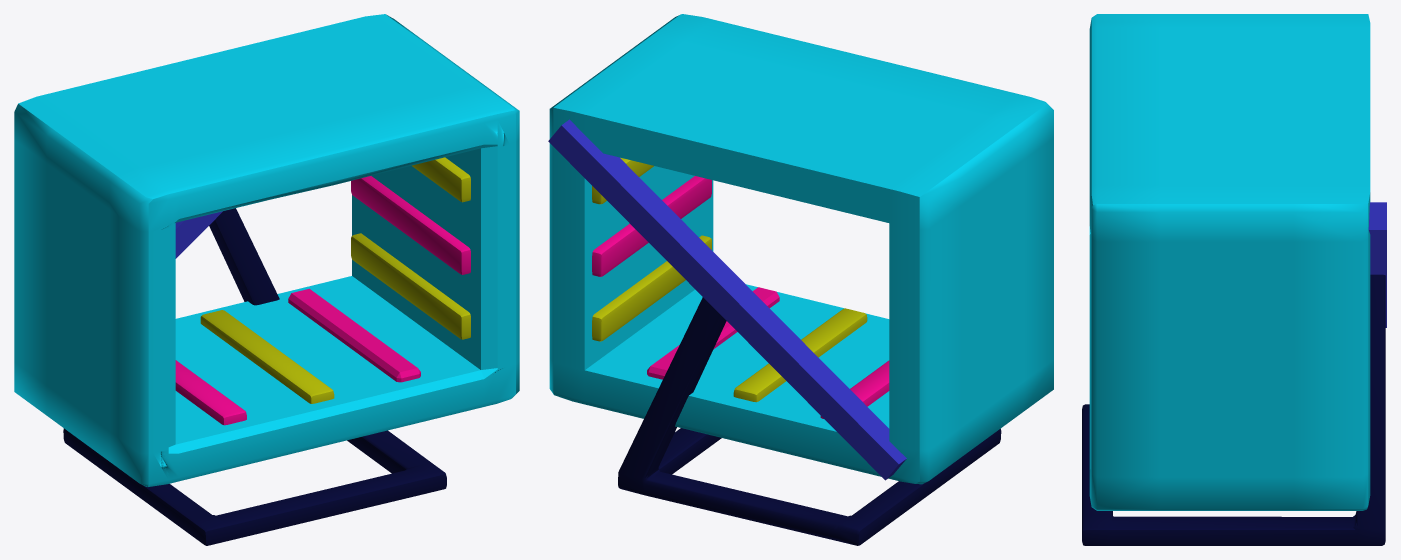
Rendered from WHEEL.FBX.
The picture shows the model from 3 angles, left to right: view 1: azimuth 30°, elevation 25°; view 2: azimuth 150°, elevation 25°; view 3: azimuth 270°, elevation 25°; orthographic projection. The views are drawn at different scales.
Parts seen in each view (by area): view 1: Box005; view 2: Box005; view 3: Box005.
Part boxes in pixels (left/top/right/bottom): Box005: left=14, top=14, right=519, bottom=545; Box005: left=548, top=14, right=1053, bottom=545; Box005: left=1082, top=14, right=1386, bottom=545.
Size of the model in its own units: 82.82 by 75.24 by 54.32.
